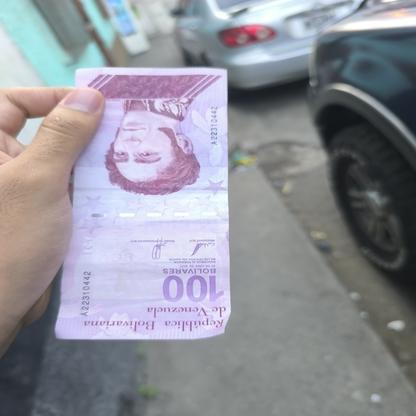one_hundred-front-vef: (54, 67, 231, 340)
